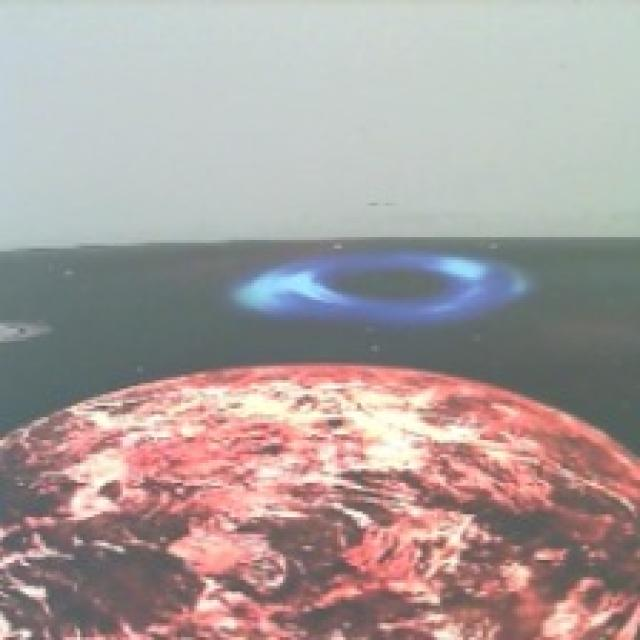Black Hole: (236, 249, 528, 319)
Sun: (0, 360, 640, 640)
